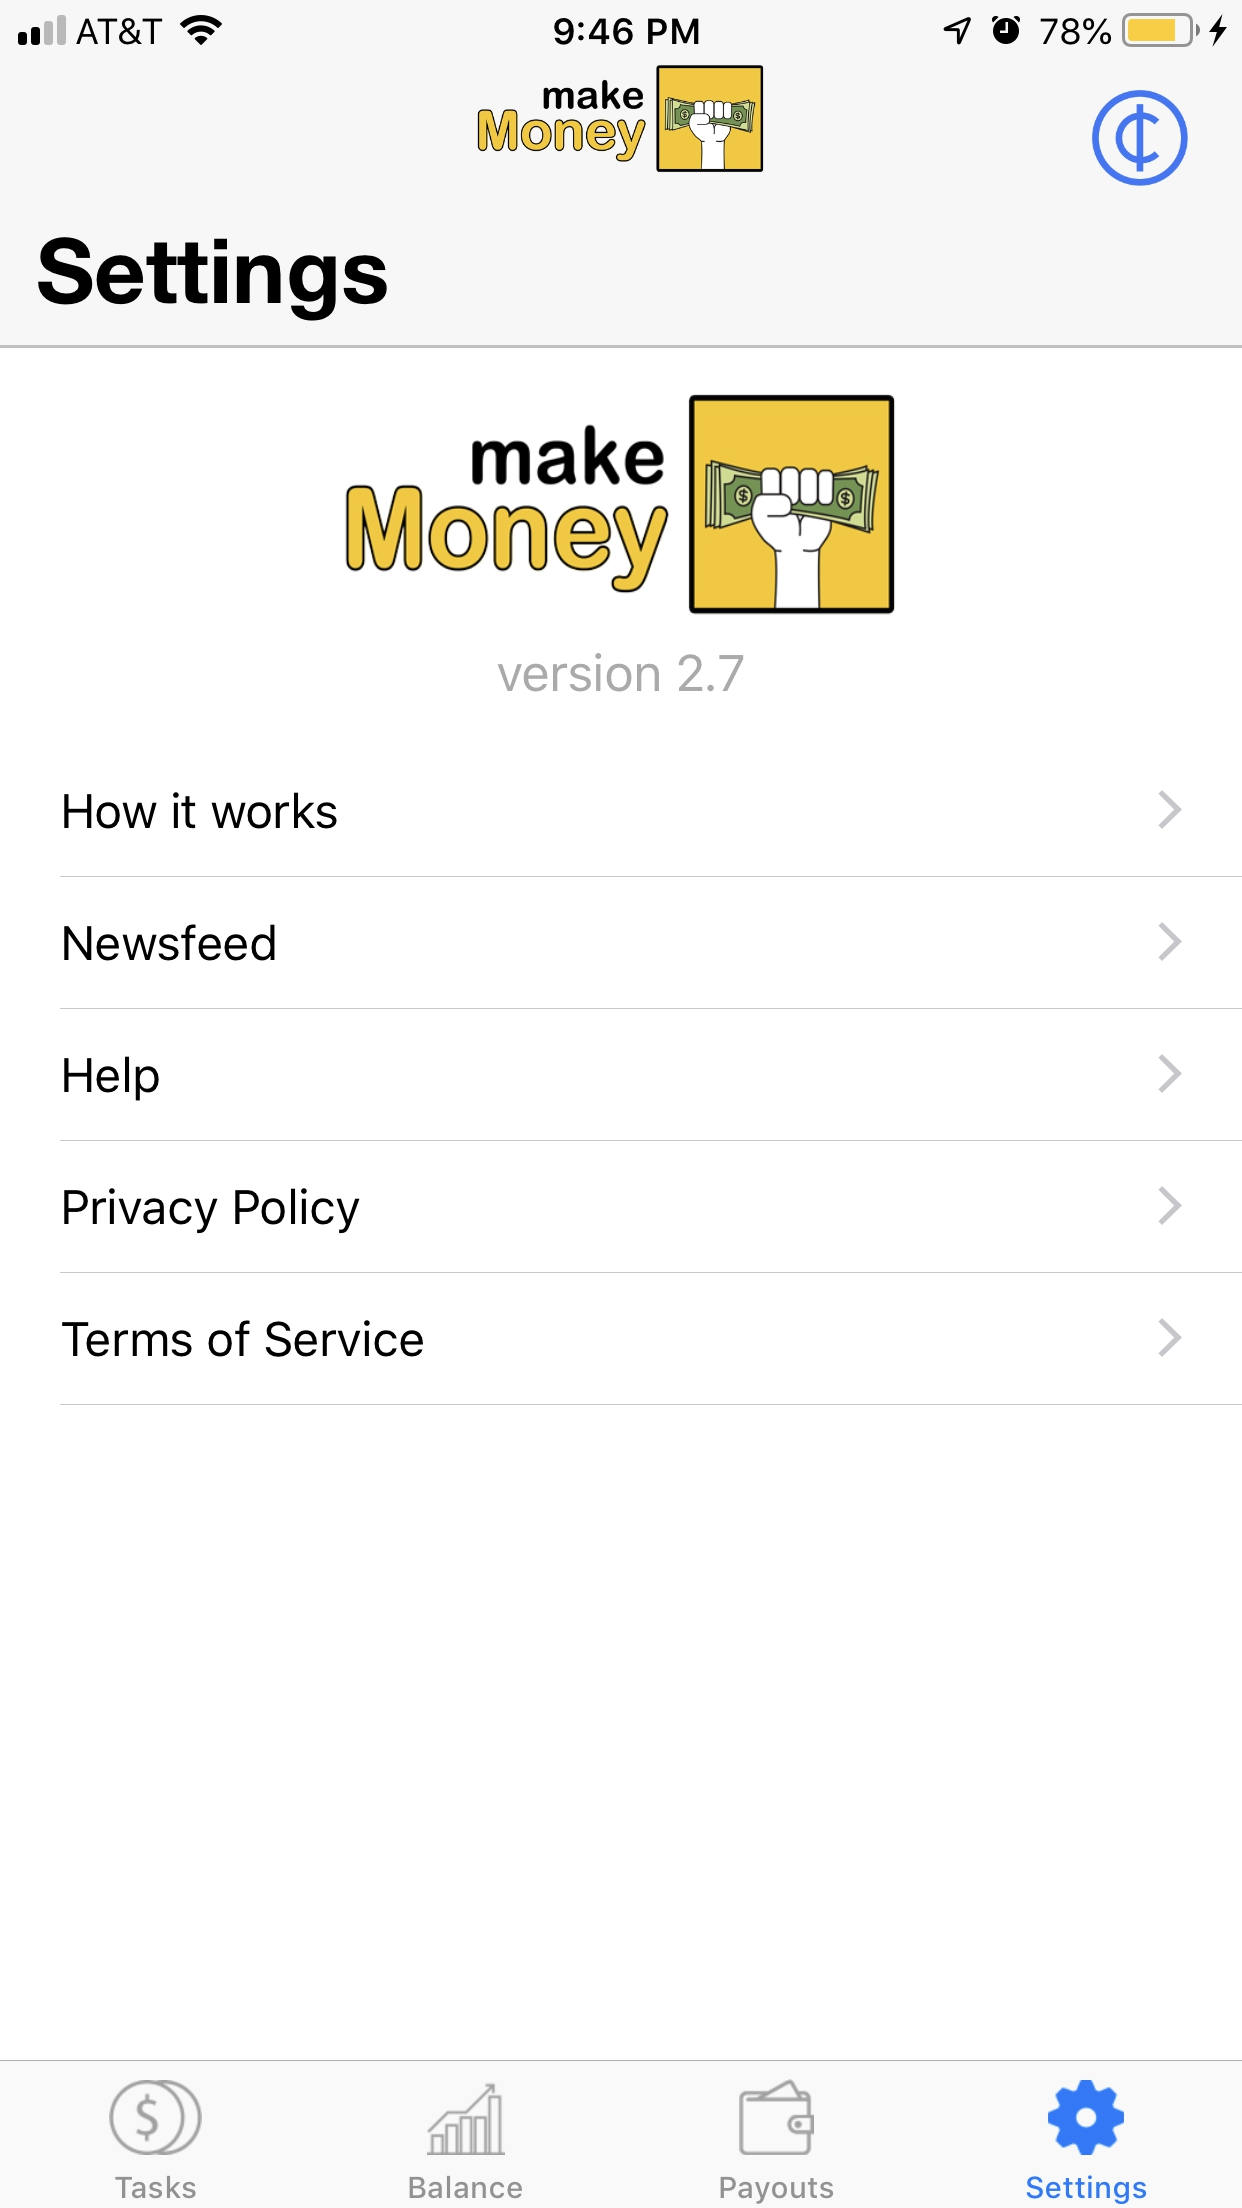Icon: (109, 2079, 205, 2156), (739, 2078, 816, 2156), (1048, 2079, 1125, 2156), (426, 2082, 507, 2156), (1157, 1052, 1183, 1093), (1157, 922, 1183, 961), (1159, 1184, 1183, 1225), (1159, 1318, 1183, 1357), (1159, 790, 1183, 830)
Image: (344, 393, 898, 616), (478, 65, 766, 174), (1090, 89, 1189, 188)
Text: (38, 237, 390, 323), (64, 1187, 361, 1234), (64, 1319, 425, 1357), (64, 792, 340, 830), (497, 654, 745, 693), (64, 924, 278, 961), (64, 1055, 161, 1102), (1027, 2175, 1146, 2205), (719, 2176, 834, 2205), (409, 2175, 525, 2199), (115, 2175, 199, 2200)
UpperTaskBar: (2, 2, 1242, 50)
